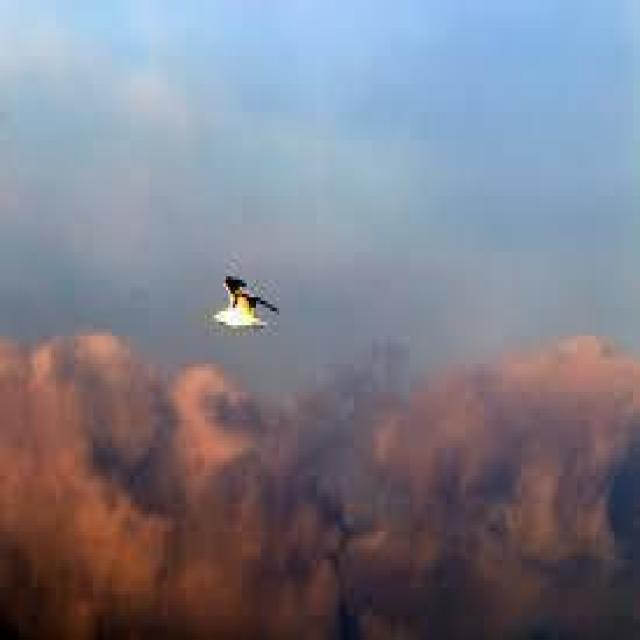bird: (206, 263, 279, 337)
